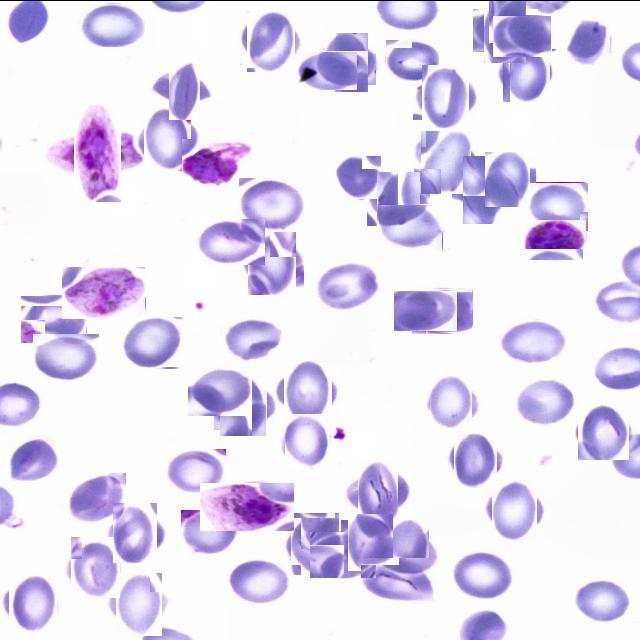difficult: (62, 265, 146, 318), (182, 138, 252, 186), (525, 218, 587, 259)
red blood cell: (239, 177, 306, 230), (450, 548, 517, 599), (120, 315, 184, 368), (458, 160, 514, 218), (33, 332, 100, 380), (188, 365, 252, 415), (418, 133, 474, 190), (21, 294, 87, 342), (361, 557, 434, 600), (244, 234, 300, 290), (140, 110, 196, 166), (317, 260, 381, 309), (280, 363, 336, 419), (310, 530, 376, 577), (198, 218, 265, 264), (228, 556, 292, 604), (67, 472, 126, 524), (244, 12, 298, 68), (288, 516, 342, 572), (500, 318, 568, 362), (528, 181, 589, 230), (418, 68, 472, 123), (68, 540, 123, 594), (378, 524, 433, 578), (379, 203, 443, 249), (576, 404, 630, 458), (112, 576, 166, 630), (217, 378, 271, 432), (351, 465, 405, 519), (478, 2, 532, 56), (80, 2, 146, 46), (516, 377, 576, 425), (487, 482, 541, 535), (372, 176, 425, 230), (5, 578, 60, 630), (165, 448, 226, 494), (412, 287, 473, 333), (501, 46, 554, 98), (108, 506, 160, 558), (344, 516, 396, 568), (181, 509, 238, 556), (393, 289, 458, 330), (321, 36, 372, 88), (222, 318, 282, 361), (482, 153, 532, 204), (575, 577, 630, 623), (426, 378, 476, 428), (282, 416, 332, 466), (6, 434, 60, 480), (493, 14, 552, 56), (297, 50, 358, 90), (451, 436, 500, 484), (386, 38, 440, 80), (162, 64, 208, 112), (566, 19, 612, 65), (336, 154, 381, 200)
schizont: (61, 116, 133, 188)
trophozoite: (200, 482, 294, 530)
